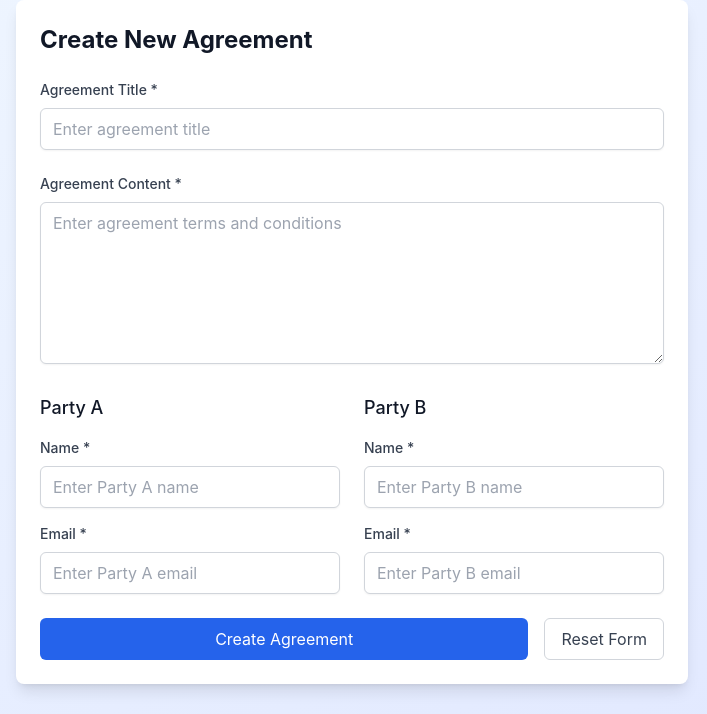
Test: CreateAgreementForm › Form Reset › resets form when reset button is clicked
The width and height of the screenshot is (707, 714).
// Fill form with data
Type "Test Agreement" into the field labelled "Agreement Title *" at [352, 129], box [40, 108, 664, 150]
Type "This is a test agreement content." into the text box labelled "Agreement Content *" at [352, 283], box [40, 202, 664, 364]
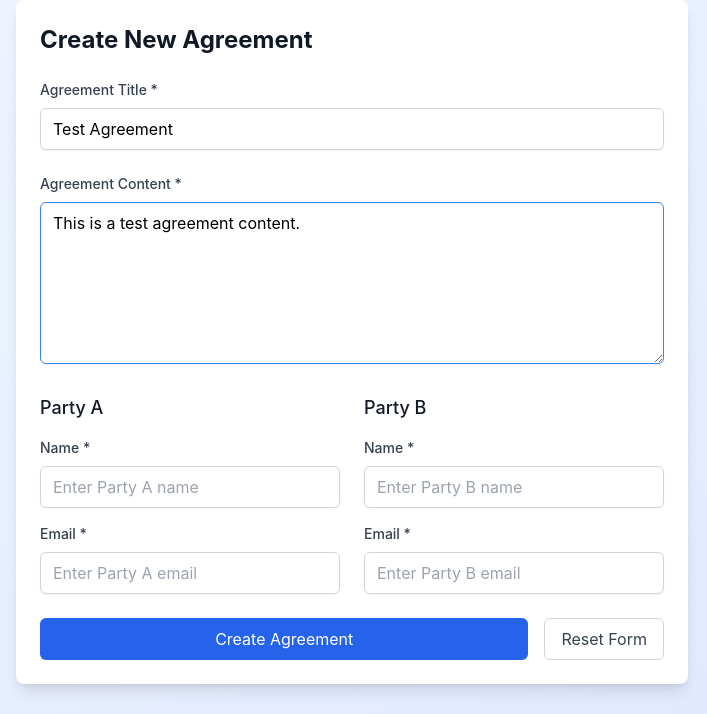
Type "John Doe" into the field labelled "Name *" below "Party A" at [190, 487], box [40, 466, 340, 508]
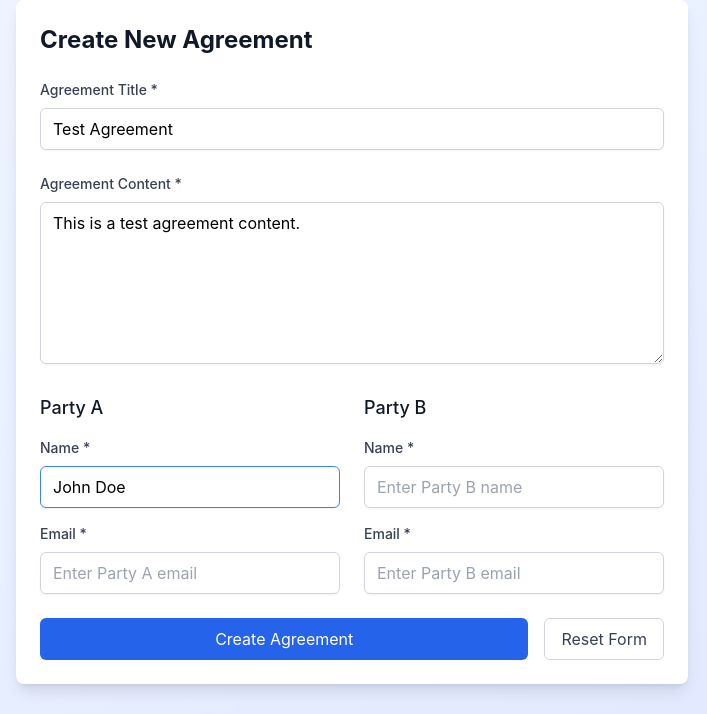
Type "john.doe@example.com" into the field labelled "Email *" below "Party A" at [190, 573], box [40, 552, 340, 594]
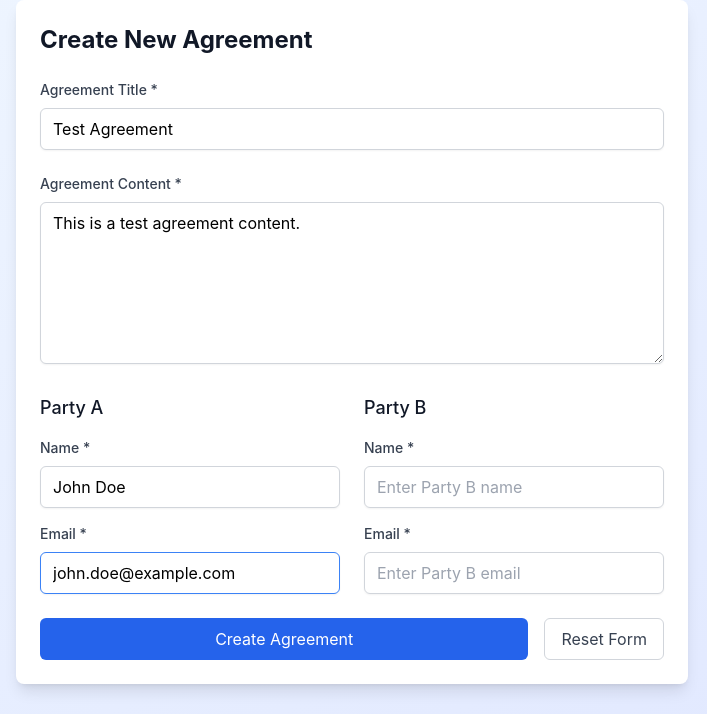
Type "Jane Smith" into the field labelled "Name *" below "Party B" at [514, 487], box [364, 466, 664, 508]
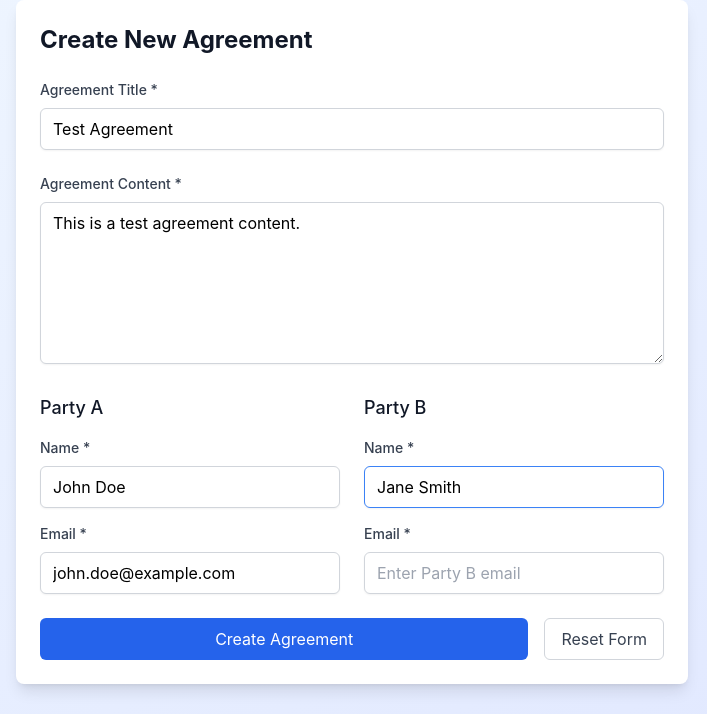
Type "jane.smith@example.com" into the field labelled "Email *" below "Party B" at [514, 573], box [364, 552, 664, 594]
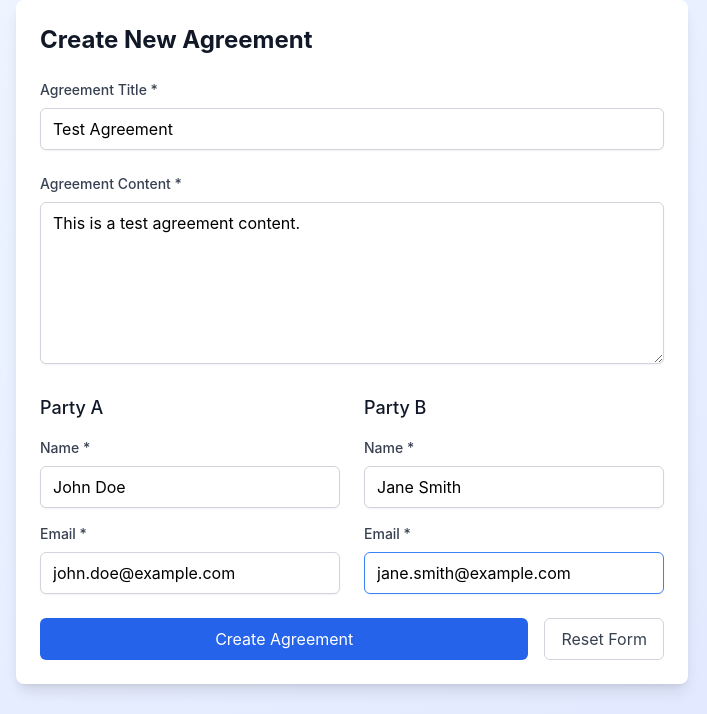
// Reset form
Click the button "Reset Form" at [604, 639], box [544, 618, 664, 660]
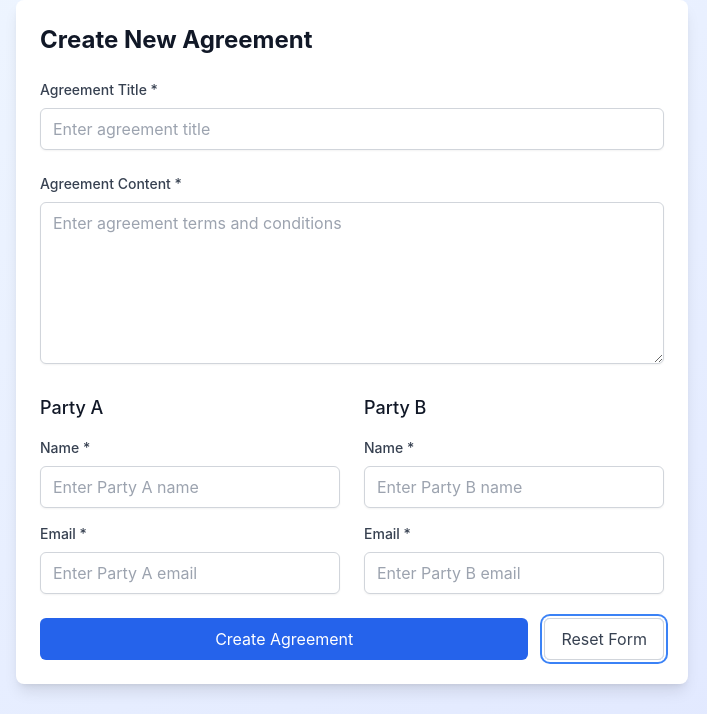
Check: the field labelled "Agreement Title *" is empty, box [40, 108, 664, 150]
Check: the text box labelled "Agreement Content *" is empty, box [40, 202, 664, 364]
Check: the field labelled "Name *" below "Party A" is empty, box [40, 466, 340, 508]
